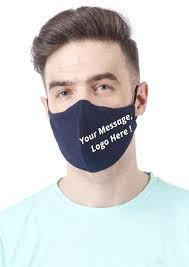mask: (39, 96, 144, 179)
